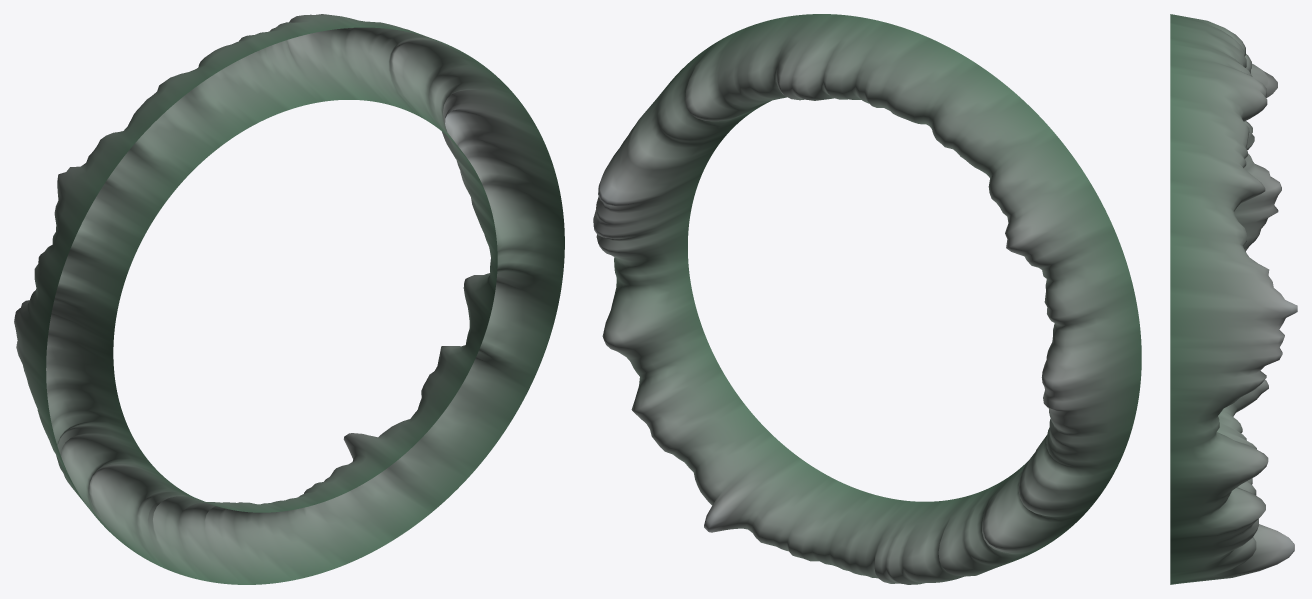
The model's file is mountain.glb.
The picture shows the model from 3 angles, left to right: view 1: azimuth 30°, elevation 25°; view 2: azimuth 150°, elevation 25°; view 3: azimuth 270°, elevation 25°; orthographic projection. The views are drawn at different scales.
Parts seen in each view (by area): view 1: MountainRange; view 2: MountainRange; view 3: MountainRange.
Part boxes in pixels (x1=…): MountainRange: x1=14, y1=14, x2=564, y2=584; MountainRange: x1=593, y1=14, x2=1141, y2=584; MountainRange: x1=1170, y1=14, x2=1297, y2=584.
Size of the model in its own units: 54 by 54 by 12.06.
